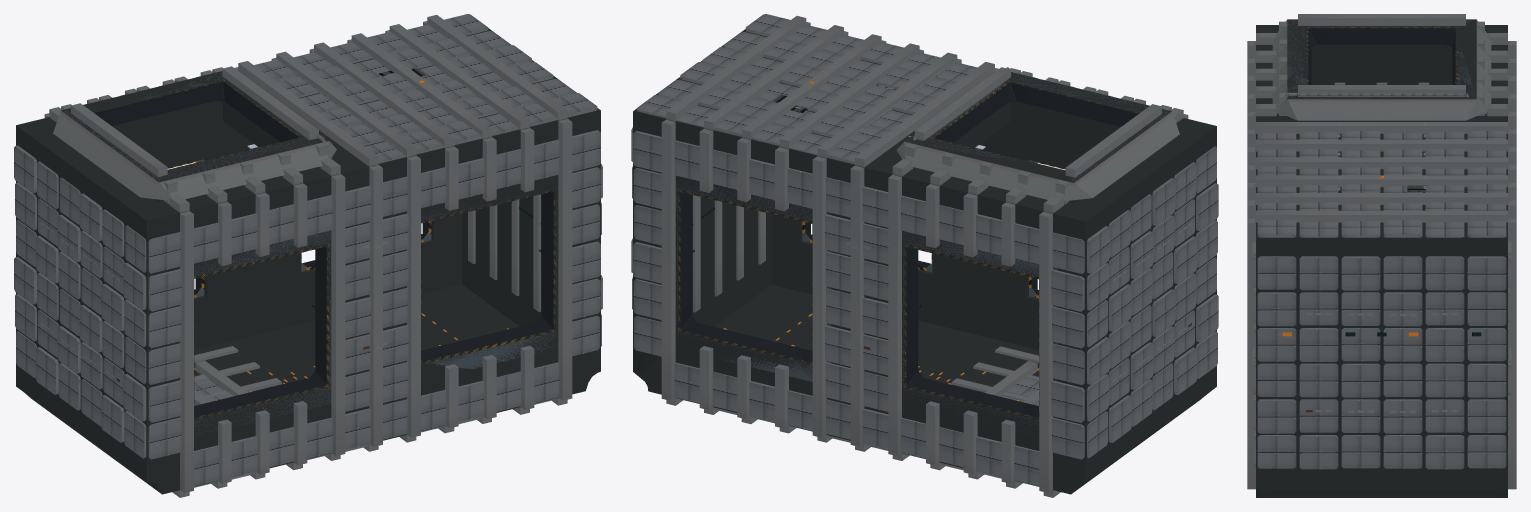
The model's file is kit_hall.glb.
3 views of the same model, side by side, from view 1: azimuth 30°, elevation 25°; view 2: azimuth 150°, elevation 25°; view 3: azimuth 270°, elevation 25° (orthographic). The views are drawn at different scales.
Visible parts, largest first — view 1: lod0; view 2: lod0; view 3: lod0.
Part boxes in pixels (left/top/right/bottom): lod0: left=14, top=14, right=602, bottom=497; lod0: left=631, top=14, right=1218, bottom=497; lod0: left=1247, top=14, right=1516, bottom=497.
Size of what is drawn, in the model's own units: 243 by 158 by 128.
Materials: 1 (1 with a texture image).
